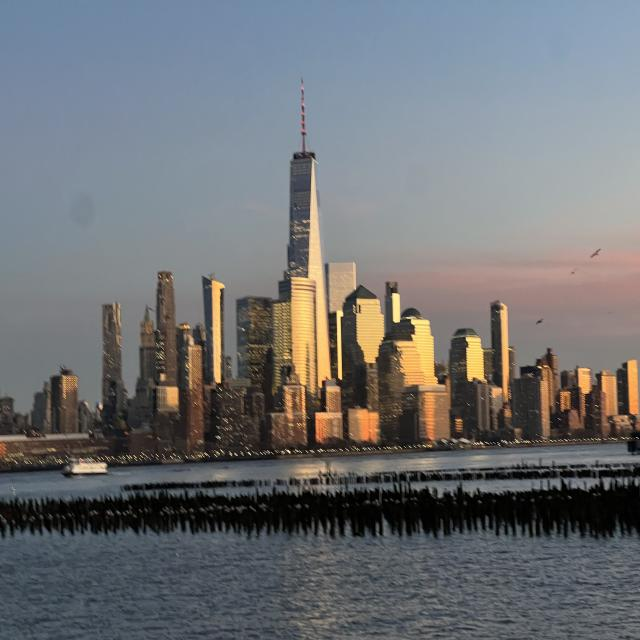WTC: (289, 81, 323, 280)
